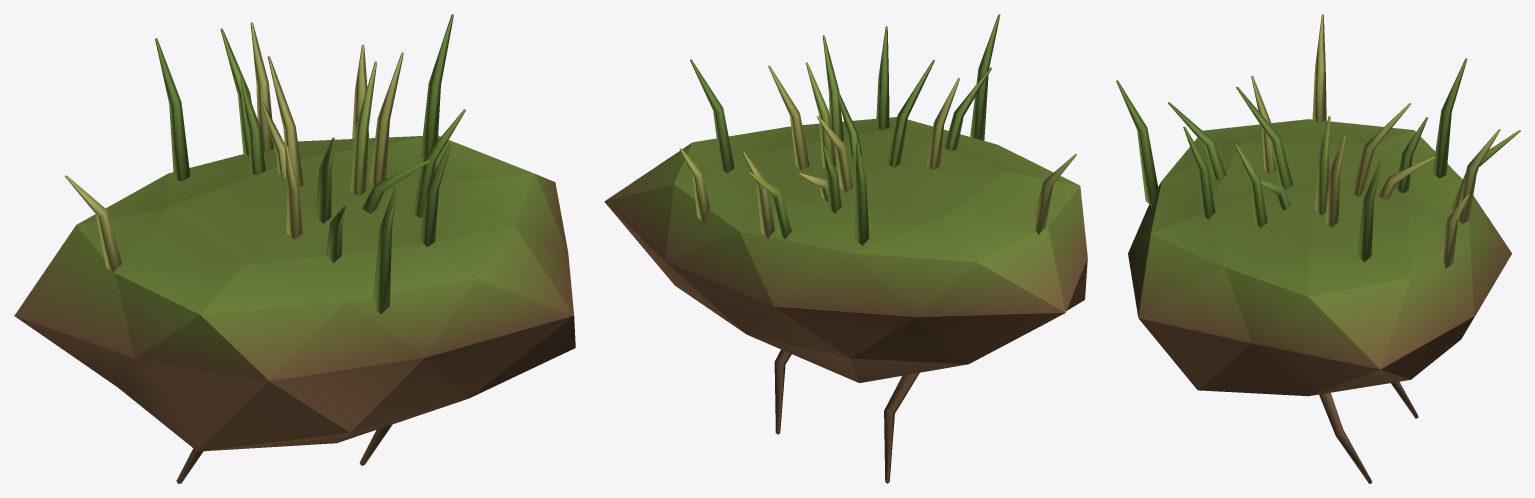
The model's file is clod.glb.
3 renders of one model, left to right at view 1: azimuth 30°, elevation 25°; view 2: azimuth 150°, elevation 25°; view 3: azimuth 270°, elevation 25°, orthographic. The views are drawn at different scales.
Parts seen in each view (by area): view 1: Clod; view 2: Clod; view 3: Clod.
Part boxes in pixels (x1,y1,x2,y2): Clod: (14,14,575,483); Clod: (604,14,1087,483); Clod: (1116,14,1520,483).
Bounding box in the file's own units: 0.1739 × 0.1298 × 0.131.
